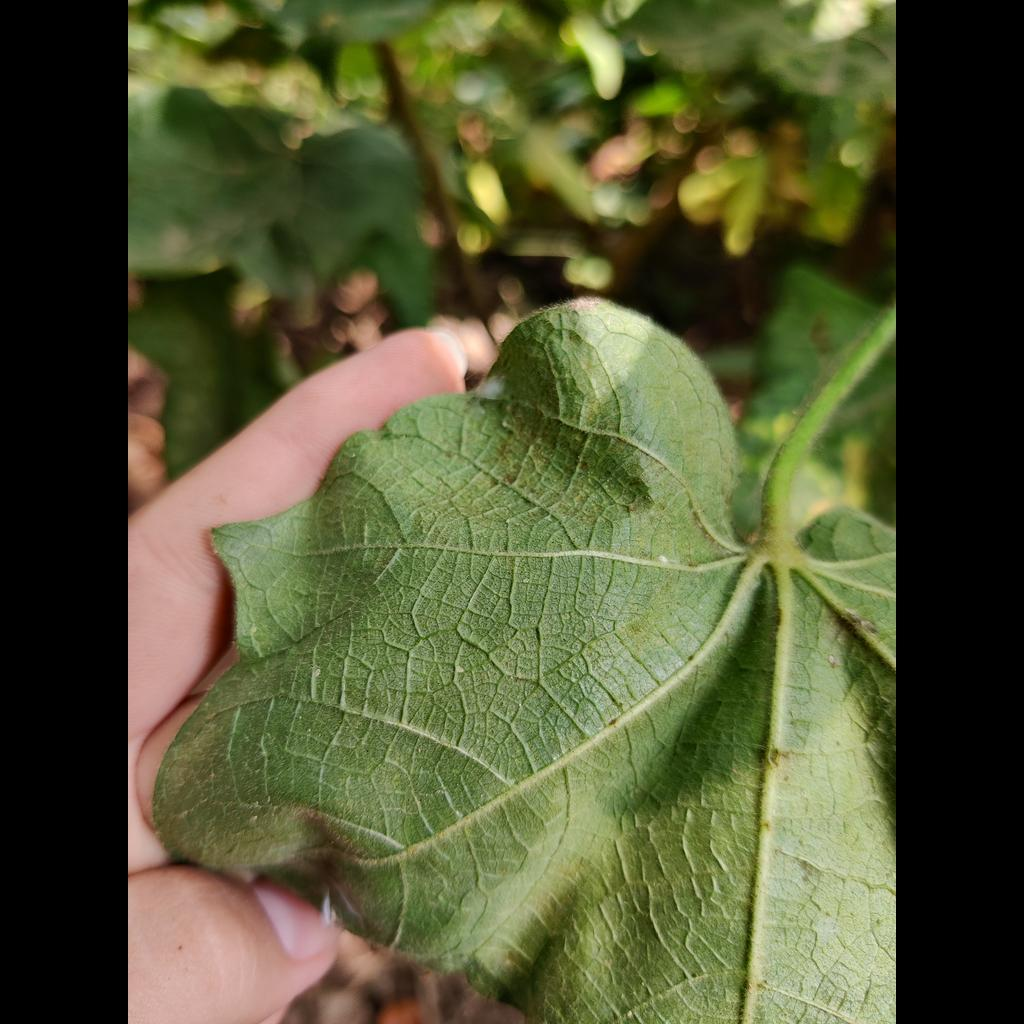nymph: (658, 555, 669, 563), (456, 665, 464, 674), (314, 668, 321, 676), (501, 421, 508, 427), (627, 1010, 632, 1017), (829, 656, 834, 663), (252, 627, 256, 633)
